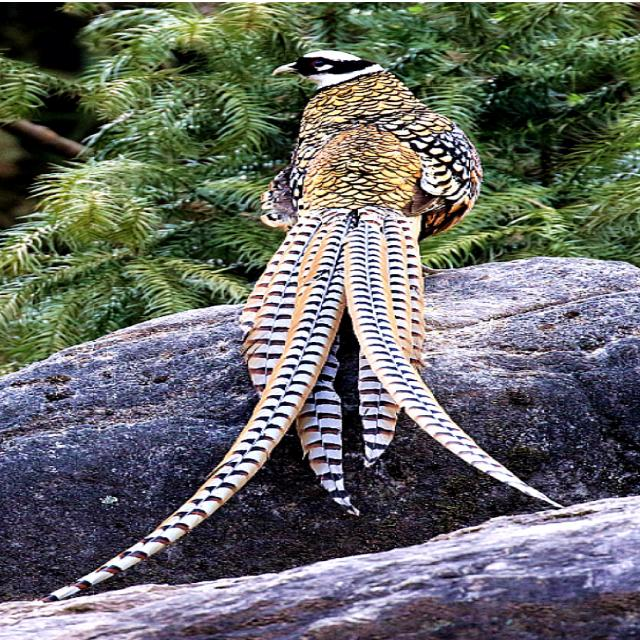Reeves-s Pheasant: (37, 206, 565, 604)
